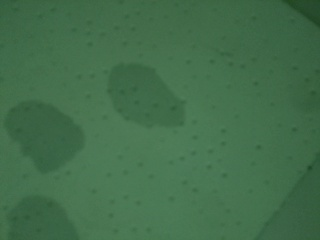Water_detected: (104, 71, 171, 121), (21, 113, 73, 165), (24, 198, 76, 240)
